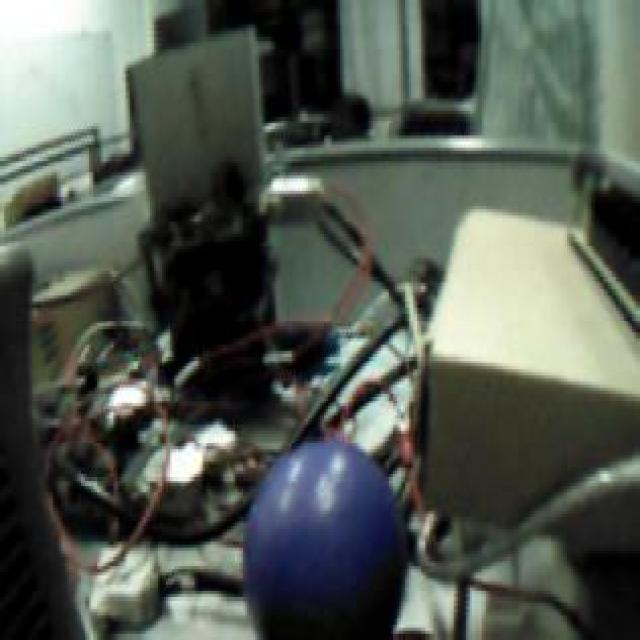BallPurple: (243, 437, 407, 640)
